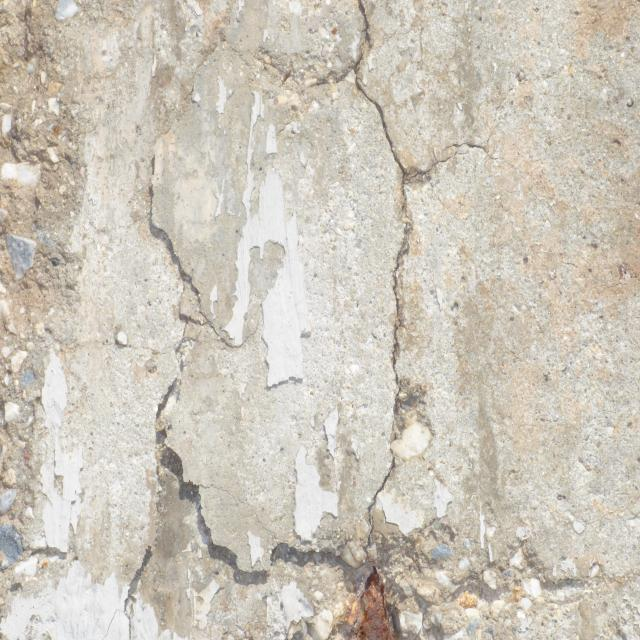corrosion: (343, 557, 422, 640)
